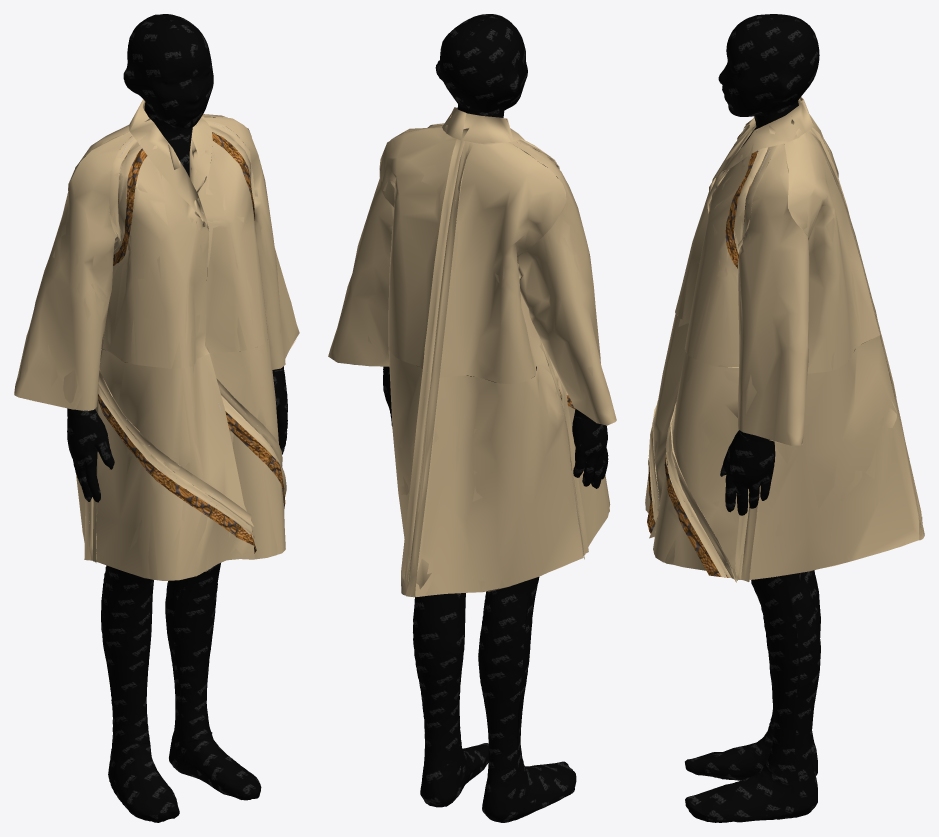
File: AR mannequin for Android-Prada coat.glb
3 views of the same model, side by side, from view 1: azimuth 30°, elevation 25°; view 2: azimuth 150°, elevation 25°; view 3: azimuth 270°, elevation 25° (orthographic).
Parts seen in each view (by area): view 1: PRADA with HD Women Mannequin, Woman Bodysuit AR; view 2: PRADA with HD Women Mannequin, Woman Bodysuit AR; view 3: PRADA with HD Women Mannequin, Woman Bodysuit AR.
Part boxes in pixels (x1,y1,x2,y2): PRADA with HD Women Mannequin: (14, 99, 299, 580); Woman Bodysuit AR: (67, 14, 287, 822); PRADA with HD Women Mannequin: (328, 107, 616, 597); Woman Bodysuit AR: (383, 14, 608, 822); PRADA with HD Women Mannequin: (645, 97, 924, 582); Woman Bodysuit AR: (685, 14, 820, 822).
Size of the model in its own units: 0.6817 by 1.77 by 0.5769.
Materials: 6 (5 with a texture image).
